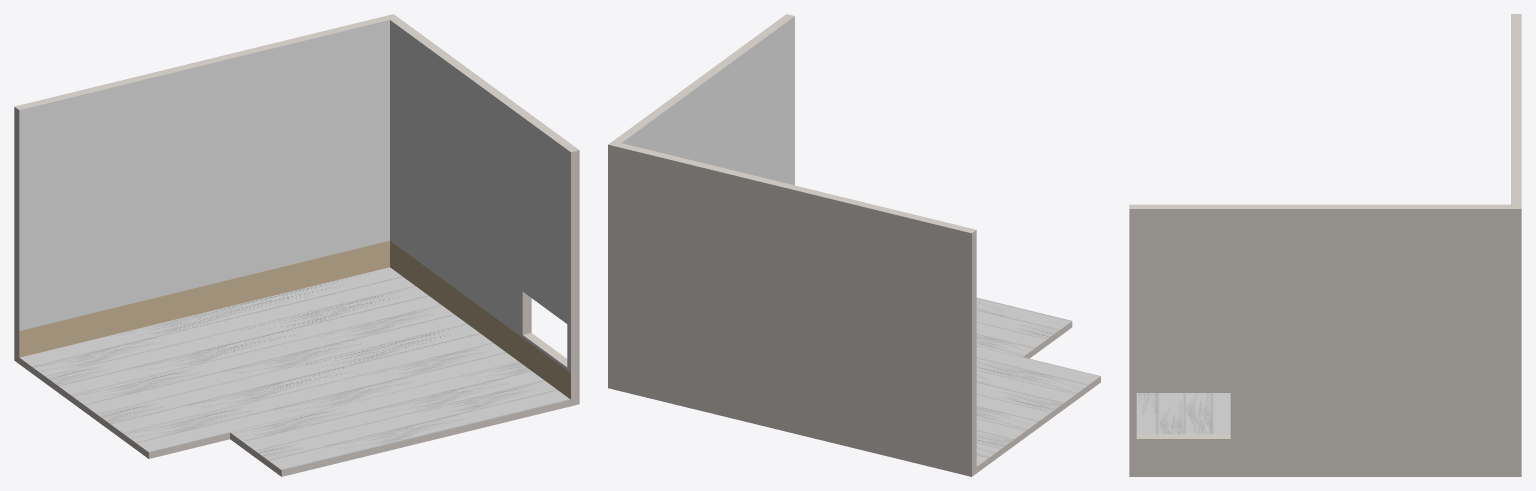
File: fbx_speat_wall.fbx
The picture shows the model from 3 angles, left to right: view 1: azimuth 30°, elevation 25°; view 2: azimuth 150°, elevation 25°; view 3: azimuth 270°, elevation 25°; orthographic projection. The views are drawn at different scales.
Visible parts, largest first — view 1: fbx_speat_wall; view 2: fbx_speat_wall; view 3: fbx_speat_wall.
Boxes of the visible parts, left/top/right/bottom form: fbx_speat_wall: left=14, top=14, right=579, bottom=476; fbx_speat_wall: left=608, top=14, right=1100, bottom=476; fbx_speat_wall: left=1129, top=14, right=1521, bottom=476.
Size of the model in its own units: 7.82 by 5 by 6.64.
Materials: 1 (1 with a texture image).
